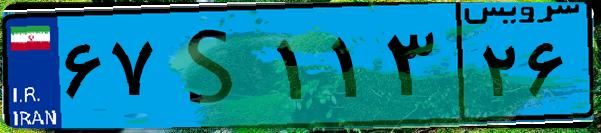1: (270, 28, 330, 110), (330, 28, 385, 110)
2: (475, 38, 525, 113)
3: (385, 28, 445, 110)
6: (57, 26, 110, 100), (525, 38, 570, 115)
7: (110, 28, 158, 98)
S: (158, 12, 270, 120)
